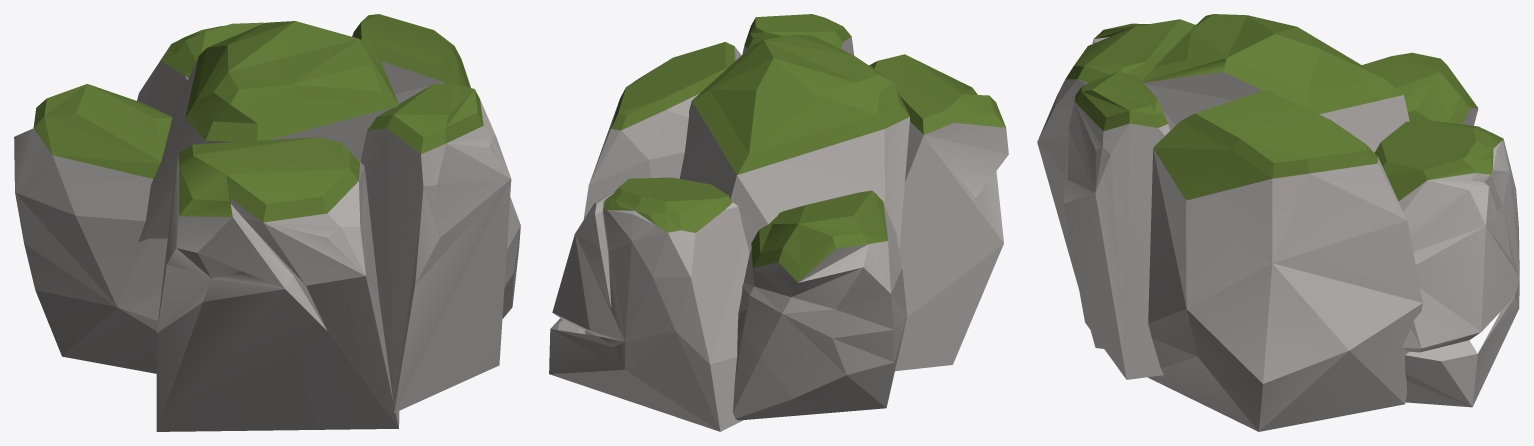
Rendered from RockStack_2.fbx.
3 renders of one model, left to right at view 1: azimuth 30°, elevation 25°; view 2: azimuth 150°, elevation 25°; view 3: azimuth 270°, elevation 25°, orthographic. The views are drawn at different scales.
Parts seen in each view (by area): view 1: RockStack_2; view 2: RockStack_2; view 3: RockStack_2.
Boxes of the visible parts, x1,y1,x2,y2 form: RockStack_2: (14,14,520,431); RockStack_2: (549,14,1008,431); RockStack_2: (1037,14,1519,431).
Bounding box in the file's own units: 251 × 192 × 267.
